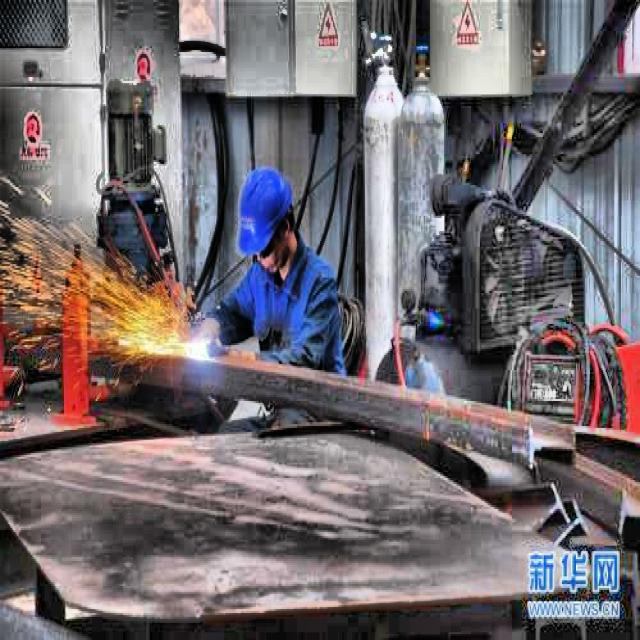helmet: (237, 162, 302, 283)
